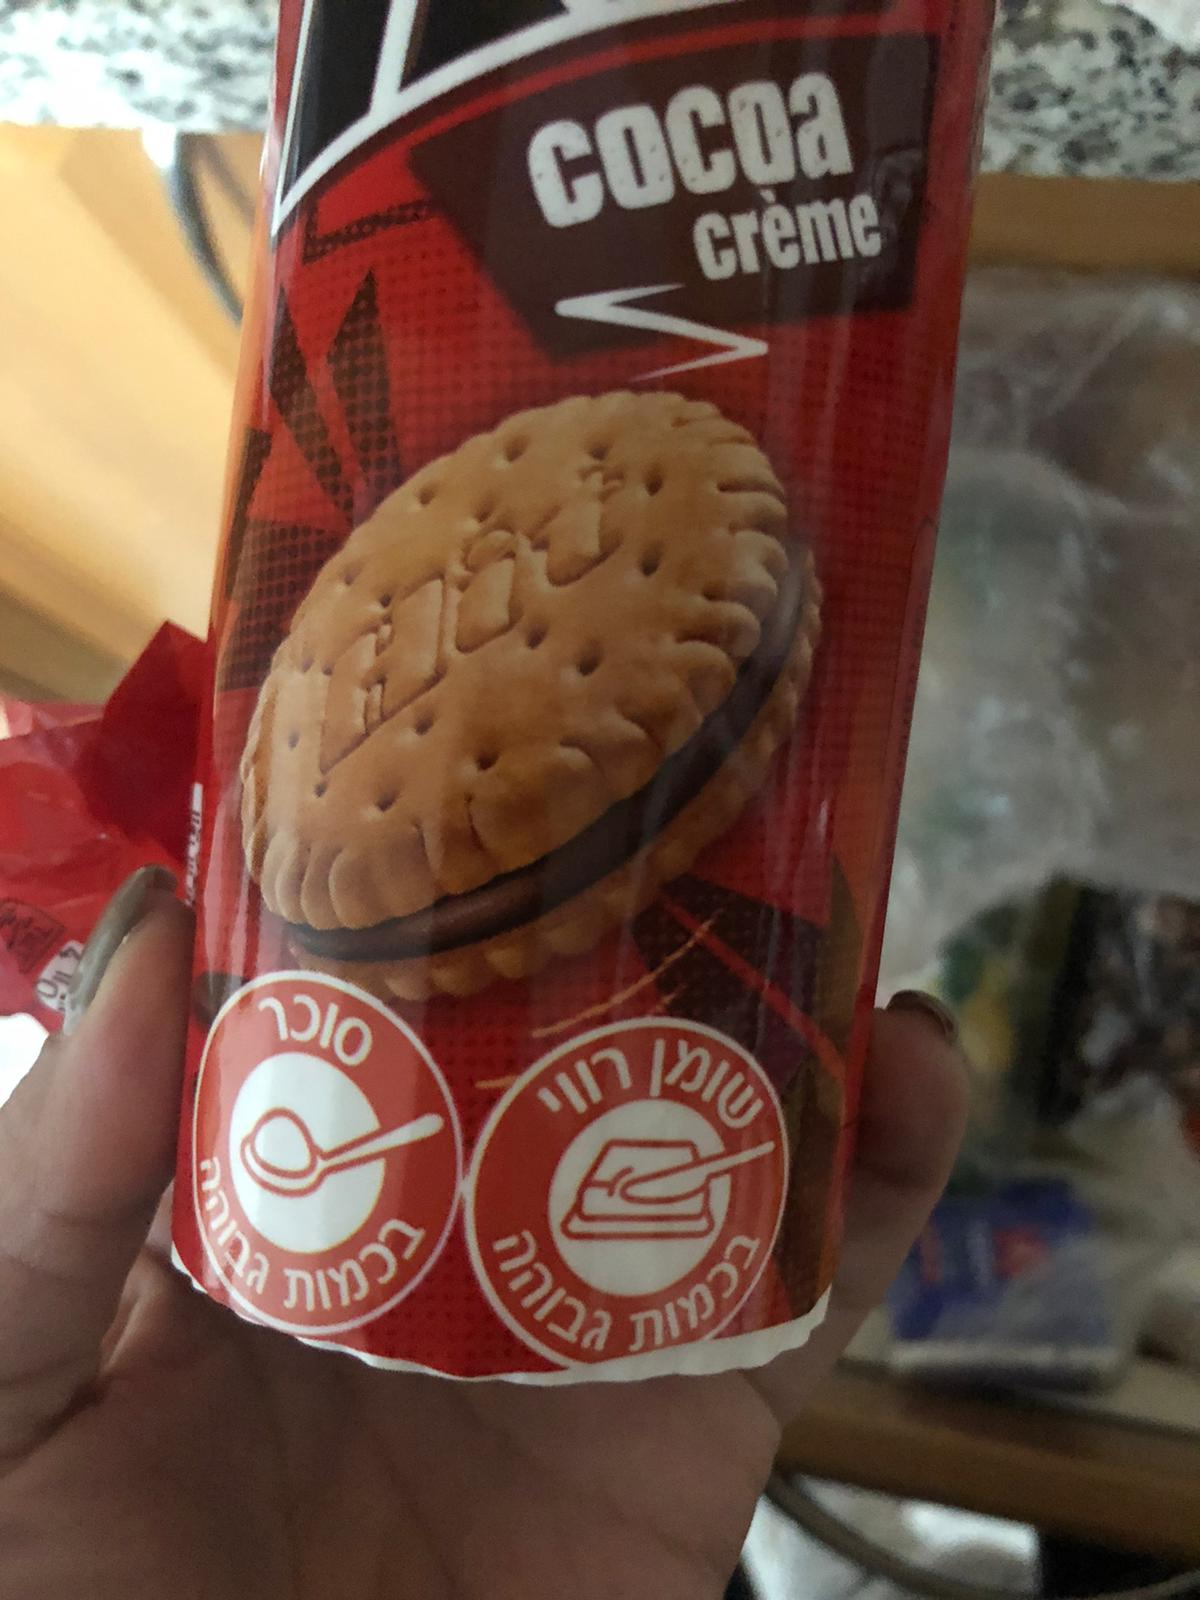fat: (461, 1015, 792, 1371)
sugar: (189, 971, 466, 1340)
